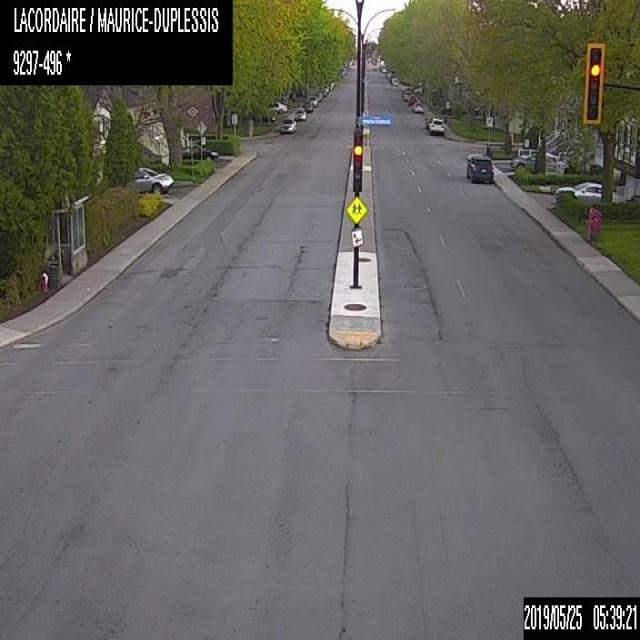vehicle: (553, 180, 617, 202), (510, 150, 560, 172), (134, 166, 173, 192), (466, 152, 492, 182), (180, 142, 220, 161), (279, 115, 296, 134), (428, 116, 443, 134), (268, 100, 286, 113), (424, 112, 435, 128), (293, 106, 305, 120), (301, 100, 312, 112), (307, 95, 318, 107), (401, 85, 412, 96), (413, 101, 423, 112), (408, 93, 417, 104), (277, 98, 288, 106), (390, 75, 398, 86), (314, 90, 322, 100), (403, 90, 411, 99), (319, 88, 326, 96), (323, 84, 328, 92), (341, 67, 345, 74)
